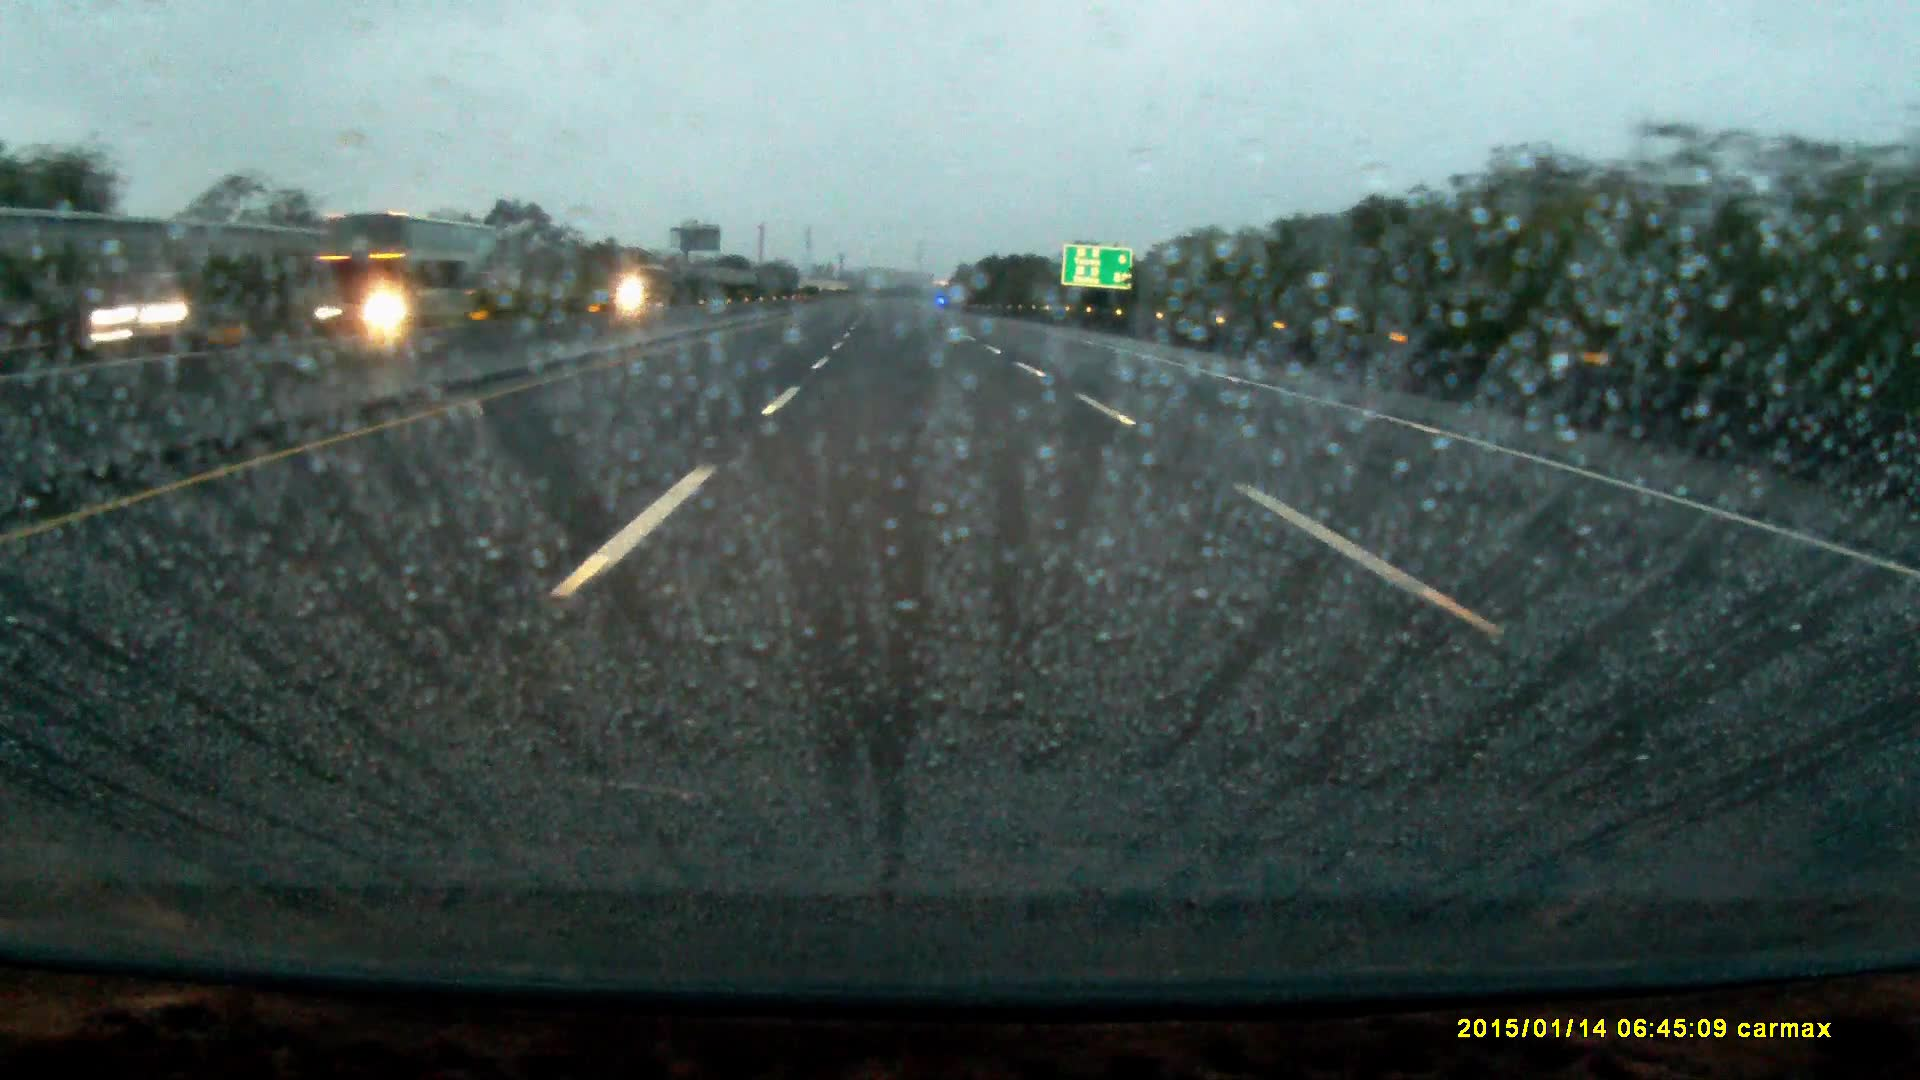vehicle: (310, 212, 498, 328), (108, 274, 248, 349), (630, 268, 686, 306)
